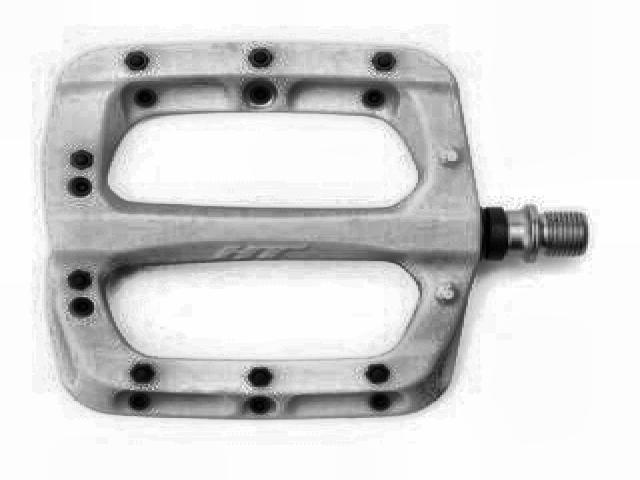pedal: (43, 36, 591, 424)
